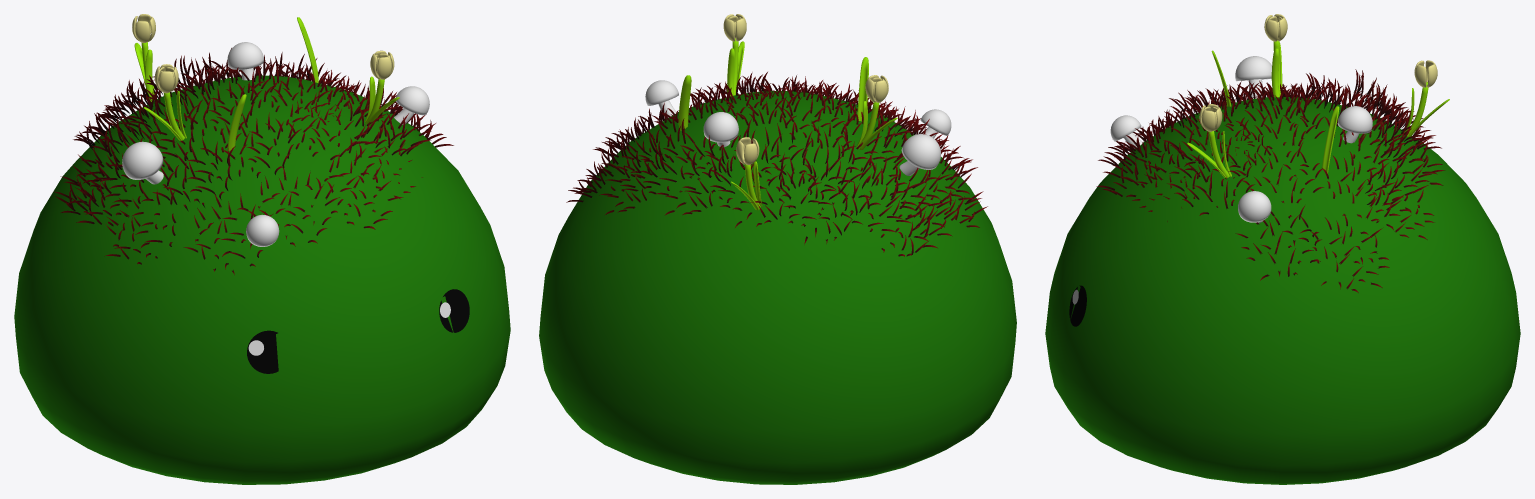
The model's file is Slime_planta.fbx.
The picture shows the model from 3 angles, left to right: view 1: azimuth 30°, elevation 25°; view 2: azimuth 150°, elevation 25°; view 3: azimuth 270°, elevation 25°; orthographic projection. The views are drawn at different scales.
Parts seen in each view (by area): view 1: transparente.001, Topo_cogumelo, Plane.008, Plane.018, Plane.019, Plane.024, Plane.011, olhodireita.001, olhodireita, Plane.007, Plane.003, Topo_cogumelo.002 (+19 smaller); view 2: transparente.001, Topo_cogumelo, Plane.003, Plane.019, Plane.025, Plane.018, Plane.026, Topo_cogumelo.001, Plane.022, Plane.001, Plane.009, Plane.002 (+17 smaller); view 3: transparente.001, Plane.025, Plane.026, Plane.023, Plane.011, Topo_cogumelo.003, Plane.016, Plane.013, Plane.001, Plane.004, Topo_cogumelo.001, Topo_cogumelo (+15 smaller).
Part boxes in pixels (x1,y1,x2,y2): transparente.001: (14,75,510,484); Topo_cogumelo: (122,141,163,179); Plane.008: (152,136,235,211); Plane.018: (91,88,164,155); Plane.019: (54,136,122,214); Plane.024: (73,80,140,149); Plane.011: (349,94,431,156); olhodireita.001: (247,330,278,373); olhodireita: (439,289,469,332); Plane.007: (210,112,301,177); Plane.003: (75,153,143,226); Topo_cogumelo.002: (246,214,279,246); transparente.001: (539,91,1016,484); Topo_cogumelo: (901,134,941,169); Plane.003: (889,164,959,236); Plane.019: (864,180,937,256); Plane.025: (654,135,731,215); Plane.018: (803,141,882,216); Plane.026: (599,134,668,214); Topo_cogumelo.001: (703,112,738,142); Plane.022: (566,133,629,202); Plane.001: (781,96,862,148); Plane.009: (925,159,987,227); Plane.002: (841,123,906,185); transparente.001: (1045,97,1520,484); Plane.025: (1376,113,1445,185); Plane.026: (1365,160,1434,239); Plane.023: (1372,85,1441,149); Plane.011: (1167,143,1254,215); Topo_cogumelo.003: (1238,191,1271,222); Plane.016: (1096,134,1172,197); Plane.013: (1098,113,1175,166); Plane.001: (1237,84,1328,114); Plane.004: (1236,99,1325,149); Topo_cogumelo.001: (1337,106,1372,133); Topo_cogumelo: (1235,56,1271,81).
Bounding box in the file's own units: 208 × 165 × 208.
